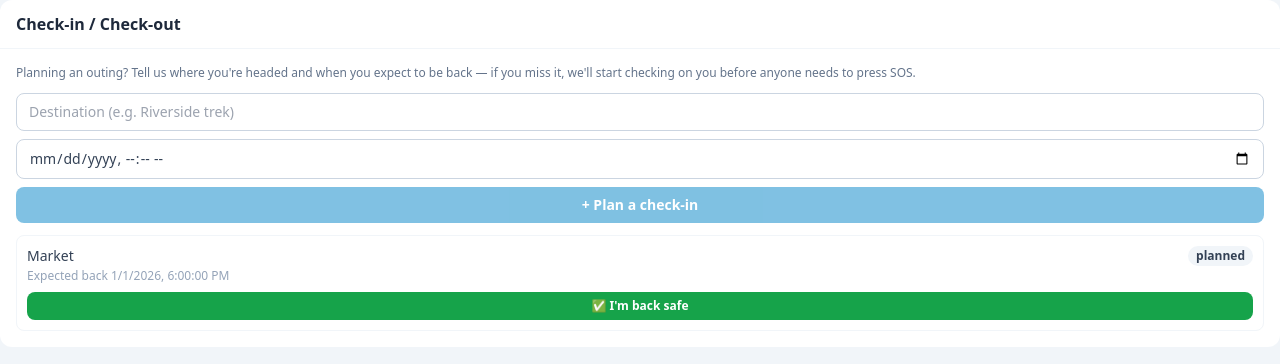
Scenario: CheckInCard › checking in updates the list
Click the button "✅ I'm back safe": (640, 306) left=27, top=292, right=1253, bottom=320
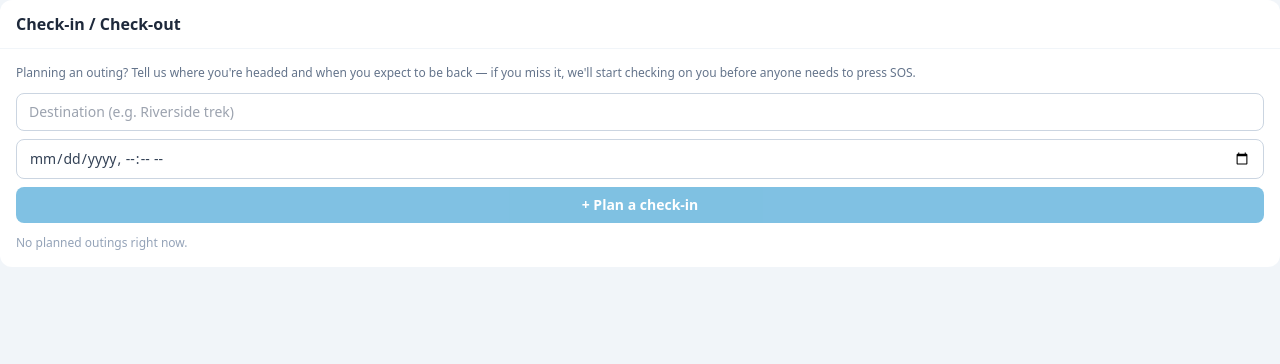
Result: the text "No planned outings right now." is shown at left=16, top=234, right=188, bottom=251
